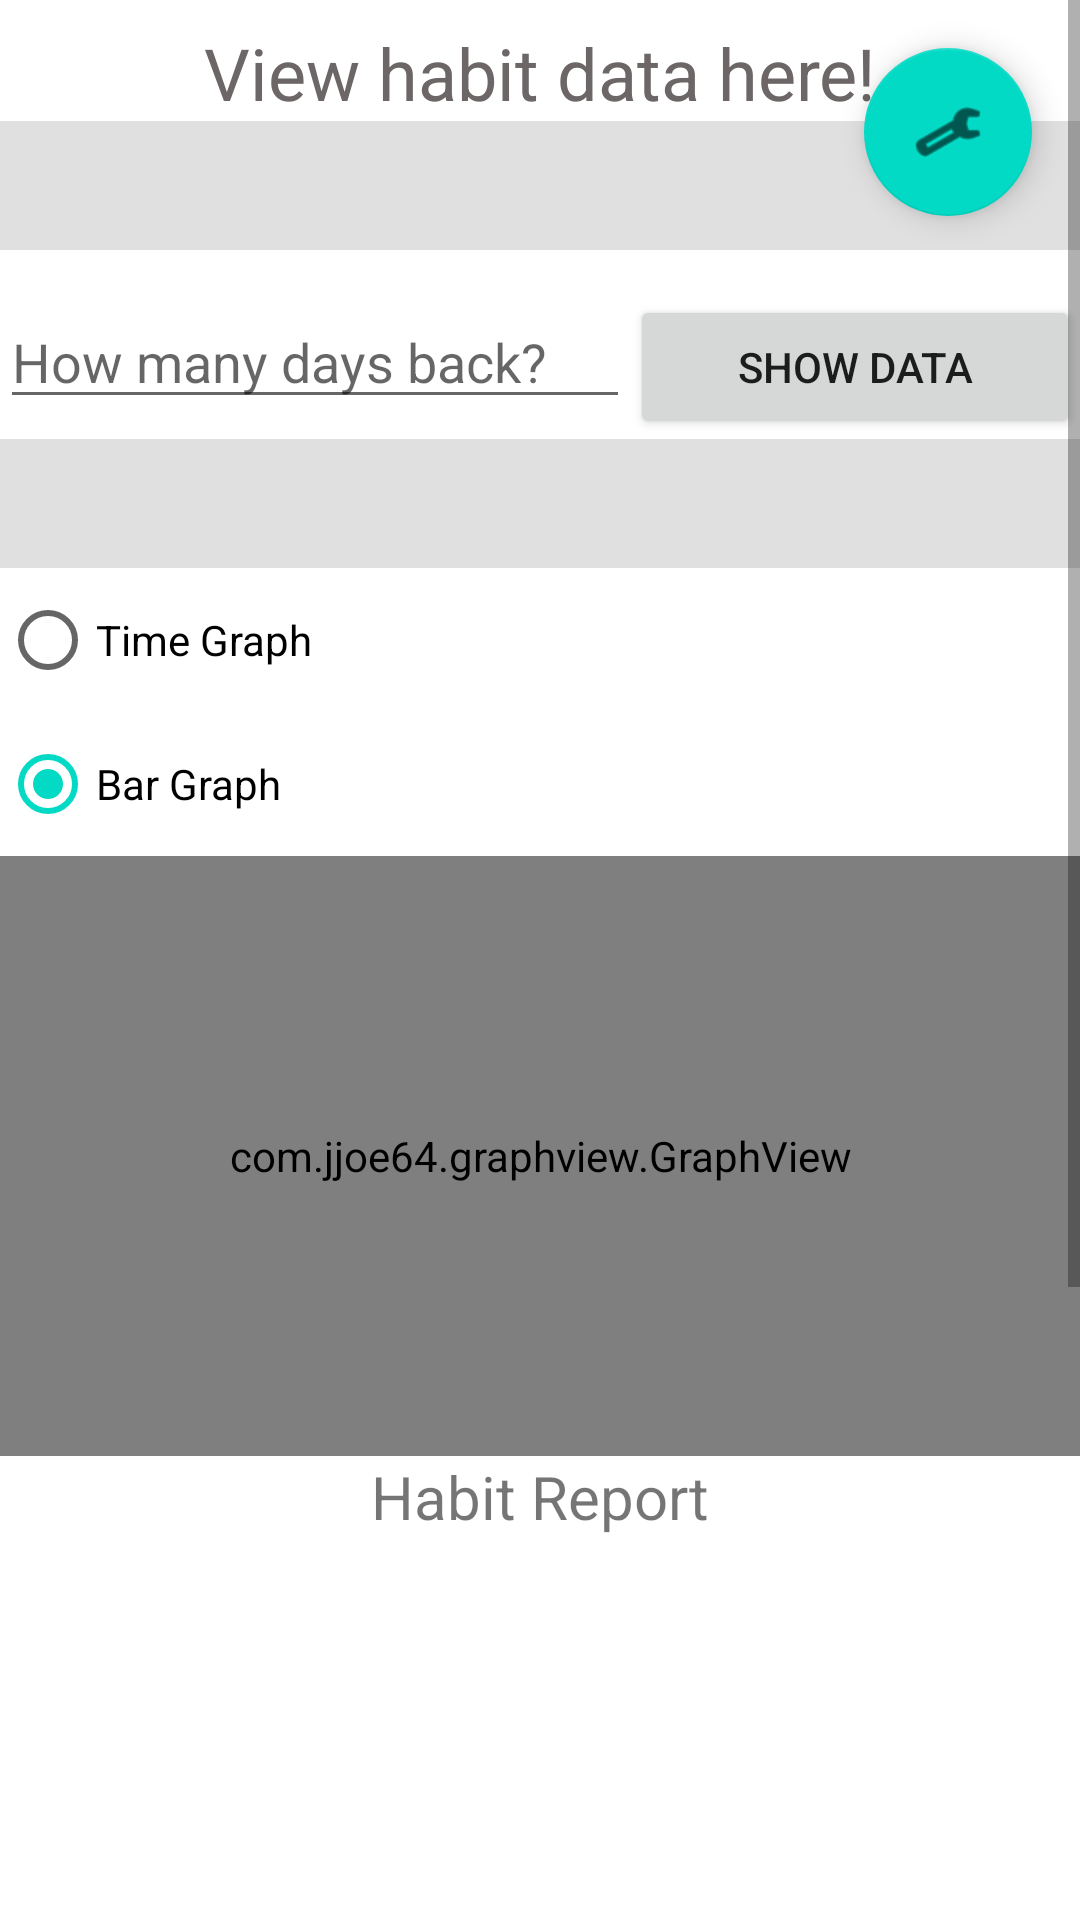

Point at icon controls on the screen. Image size 1080px x 1920px, points as point (x, y).
manage: point (948, 132)
